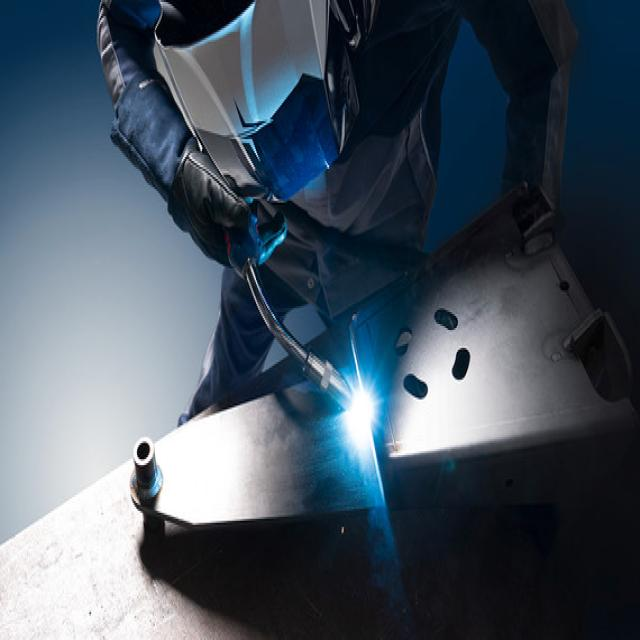welding: (348, 386, 375, 432)
